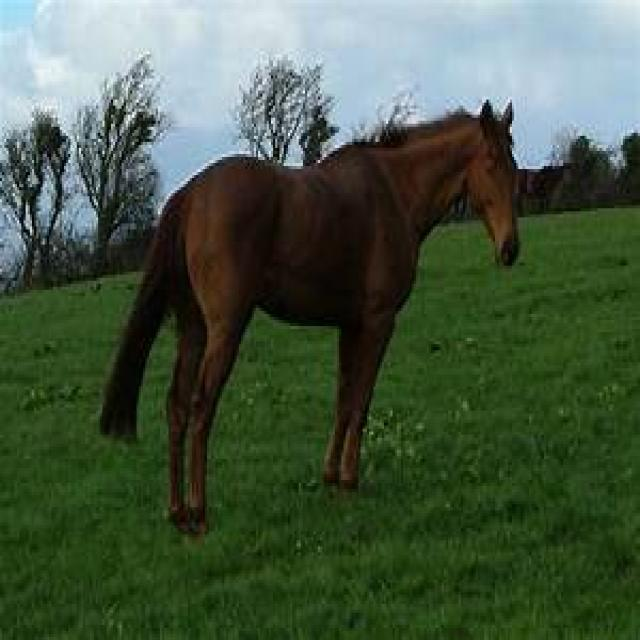animal: (66, 38, 586, 589)
